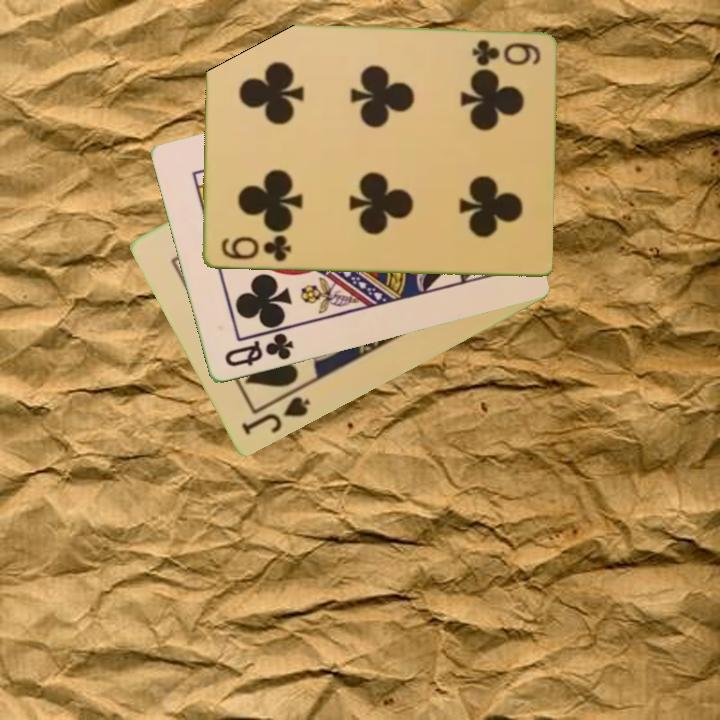6c: (218, 232, 293, 266), (468, 37, 543, 68)
Js: (237, 393, 314, 438)
Qc: (220, 330, 297, 371)
